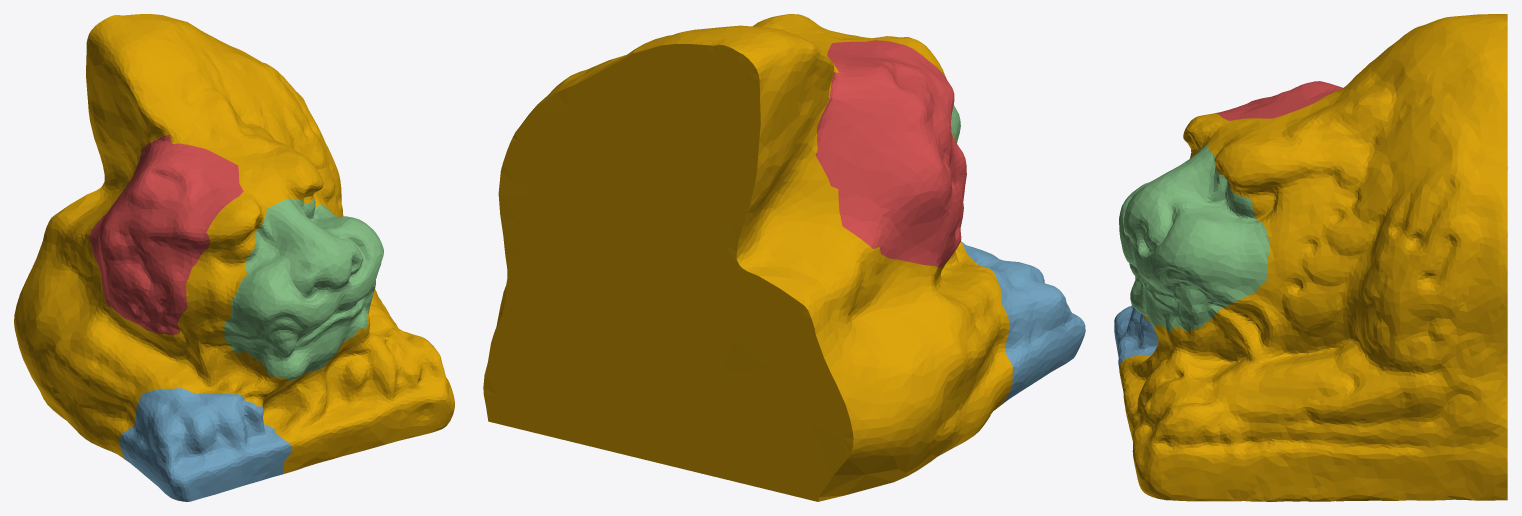
Rendered from fractured_35_4pcs.glb.
3 renders of one model, left to right at view 1: azimuth 30°, elevation 25°; view 2: azimuth 150°, elevation 25°; view 3: azimuth 270°, elevation 25°, orthographic. The views are drawn at different scales.
Visible parts, largest first — view 1: piece_0.obj, piece_3.obj, piece_1.obj, piece_2.obj; view 2: piece_0.obj, piece_1.obj, piece_2.obj; view 3: piece_0.obj, piece_3.obj, piece_1.obj, piece_2.obj.
Boxes of the visible parts, <box> form: piece_0.obj: <box>14,14,454,474</box>; piece_3.obj: <box>224,198,383,380</box>; piece_1.obj: <box>88,134,243,334</box>; piece_2.obj: <box>119,388,292,501</box>; piece_0.obj: <box>483,14,1012,501</box>; piece_1.obj: <box>815,40,966,267</box>; piece_2.obj: <box>962,242,1085,404</box>; piece_0.obj: <box>1119,14,1507,501</box>; piece_3.obj: <box>1119,143,1269,332</box>; piece_1.obj: <box>1216,81,1342,120</box>; piece_2.obj: <box>1114,303,1158,368</box>.
Size of the model in its own units: 0.966 by 1 by 0.9361.
